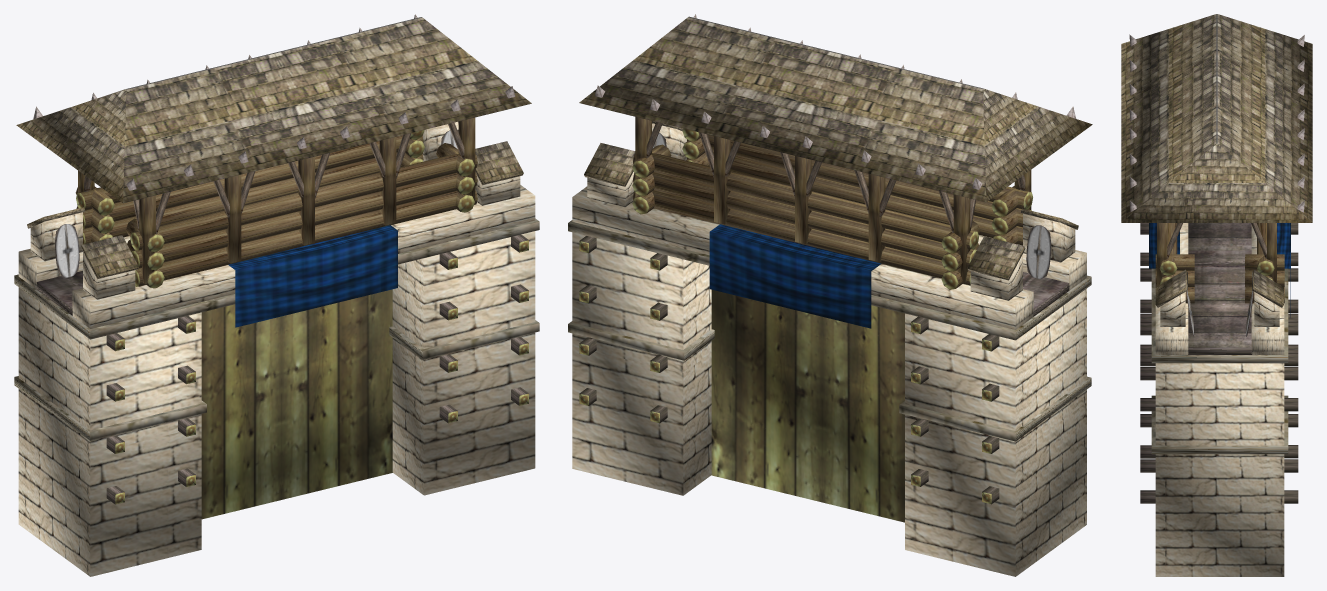
Rendered from wall_gate.dae.
3 views of the same model, side by side, from view 1: azimuth 30°, elevation 25°; view 2: azimuth 150°, elevation 25°; view 3: azimuth 270°, elevation 25° (orthographic). The views are drawn at different scales.
Parts seen in each view (by area): view 1: wall_gate; view 2: wall_gate; view 3: wall_gate.
Part boxes in pixels (left/top/right/bottom): wall_gate: left=14, top=14, right=539, bottom=576; wall_gate: left=568, top=14, right=1092, bottom=576; wall_gate: left=1121, top=14, right=1312, bottom=576.
Bounding box in the file's own units: 23.47 × 9.67 × 22.25.
